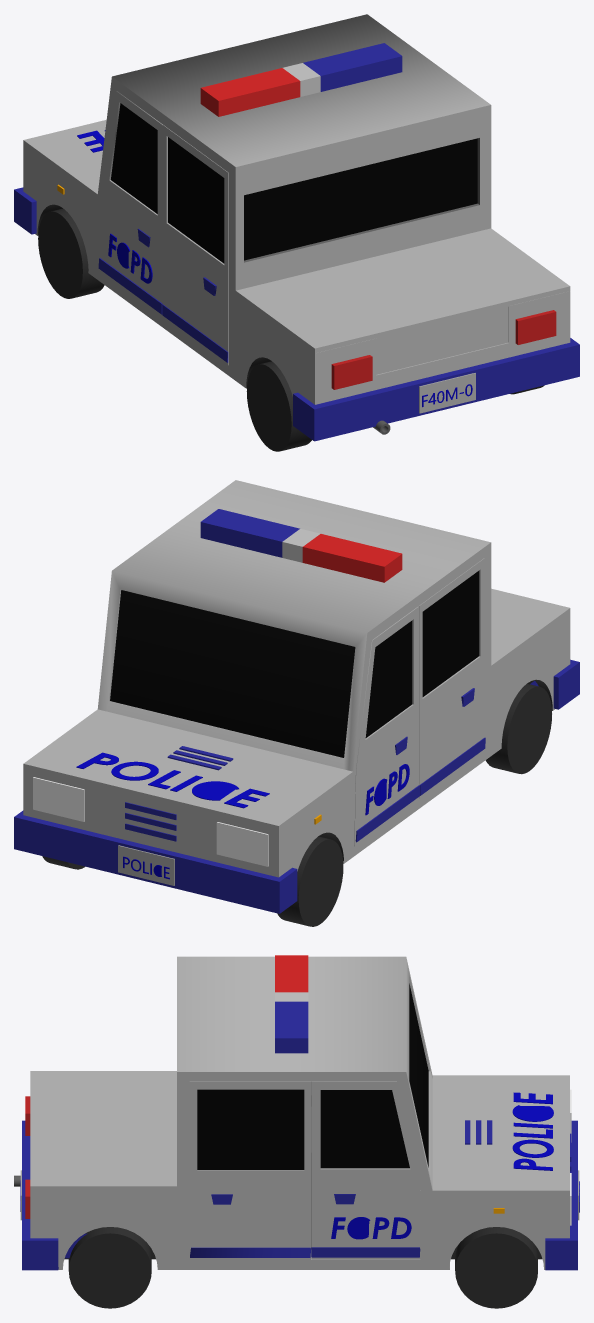
File: police_car.fbx
3 renders of one model, top to bottom at view 1: azimuth 30°, elevation 25°; view 2: azimuth 150°, elevation 25°; view 3: azimuth 270°, elevation 25°, orthographic. The views are drawn at different scales.
Parts seen in each view (by area): view 1: Body, Openthing, BackWindow, BAgagliaio, Paraurti_1, BackDoor_2, Cofano_1, FrontDoor_2, Window_4, Wheel_2_2, Window_5, Wheel_1 (+9 smaller); view 2: Body, Cofano_1, Window, Paraurti, BackDoor_2, FrontDoor_2, BAgagliaio, Window_4, Wheel_1, Window_5, Wheel_2_2, Openthing (+12 smaller); view 3: Body, Cofano_1, Openthing, BackDoor, FrontDoor, Window_2, BAgagliaio, Window_3, Wheel_1_2, Wheel_2, Paraurti_1, Window (+6 smaller).
Boxes of the visible parts, x1,y1,x2,y2 form: Body: (88, 14, 491, 375); Openthing: (235, 228, 570, 374); BackWindow: (244, 138, 477, 260); BAgagliaio: (229, 291, 570, 404); Paraurti_1: (293, 338, 579, 441); BackDoor_2: (163, 125, 228, 365); Cofano_1: (23, 120, 106, 277); FrontDoor_2: (98, 91, 162, 317); Window_4: (168, 137, 224, 263); Wheel_2_2: (38, 208, 104, 298); Window_5: (111, 103, 157, 213); Wheel_1: (246, 361, 311, 451); Body: (97, 480, 491, 863); Cofano_1: (23, 709, 359, 877); Window: (110, 590, 355, 757); Paraurti: (14, 810, 297, 913); BackDoor_2: (418, 558, 484, 798); FrontDoor_2: (354, 606, 418, 846); BAgagliaio: (484, 613, 570, 760); Window_4: (422, 570, 479, 696); Wheel_1: (485, 683, 551, 774); Window_5: (365, 620, 412, 737); Wheel_2_2: (277, 836, 343, 926); Openthing: (490, 588, 570, 670); Body: (177, 956, 449, 1269); Cofano_1: (420, 1075, 569, 1269); Openthing: (30, 1071, 177, 1191); BackDoor: (189, 1081, 310, 1260); FrontDoor: (311, 1081, 420, 1259); Window_2: (197, 1089, 304, 1169); BAgagliaio: (30, 1190, 187, 1269); Window_3: (320, 1090, 409, 1168); Wheel_1_2: (455, 1227, 537, 1308); Wheel_2: (68, 1227, 151, 1308); Paraurti_1: (22, 1120, 87, 1270); Window: (409, 983, 428, 1167).
Bounding box in the file's own units: 260 × 256 × 518.
